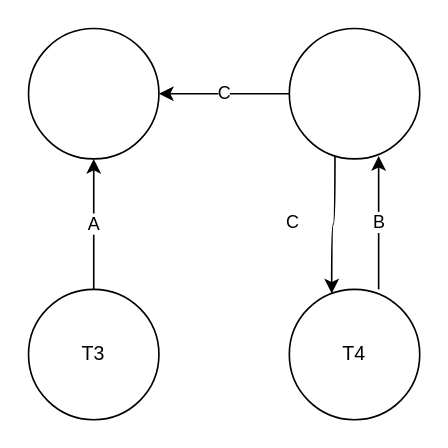
Image size: 448x448. Some labels were removed from this diagram. Here are the shapes that lost their labels. From the top down, the centre of each, then its label:
At point (93, 93): "T1".
At point (354, 93): "T2".
